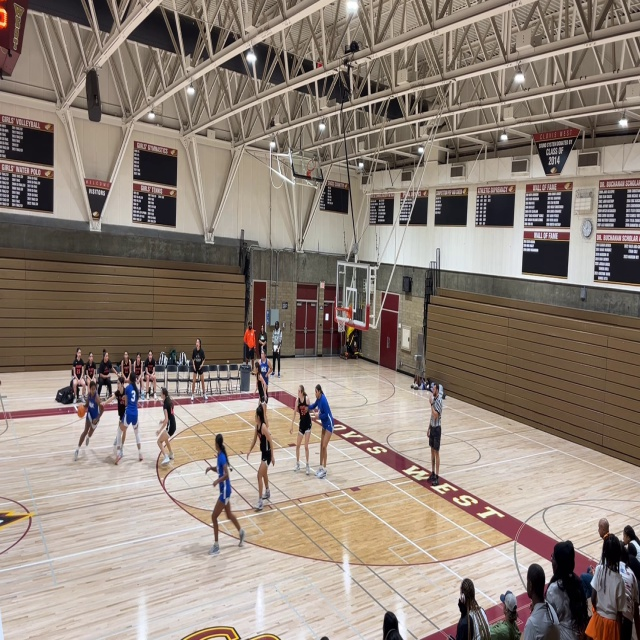Basketball: (76, 405, 86, 418)
